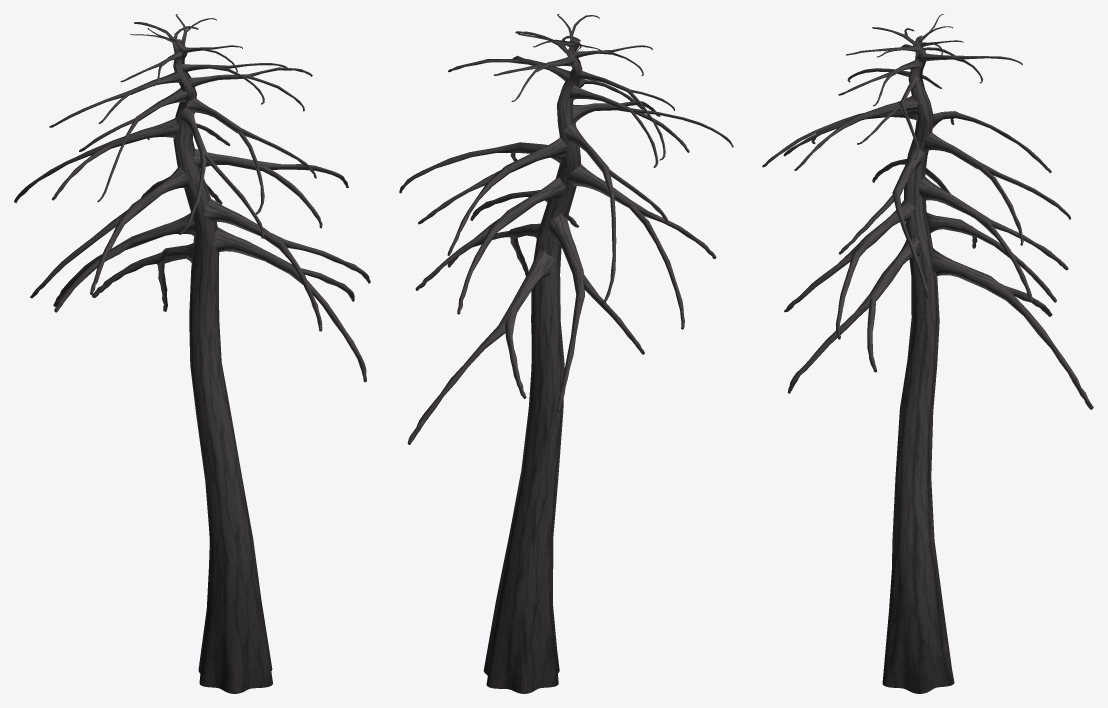
The model's file is dead-tree-1.glb.
The picture shows the model from 3 angles, left to right: view 1: azimuth 30°, elevation 25°; view 2: azimuth 150°, elevation 25°; view 3: azimuth 270°, elevation 25°; orthographic projection. The views are drawn at different scales.
Parts seen in each view (by area): view 1: DeadTree_3; view 2: DeadTree_3; view 3: DeadTree_3.
Part boxes in pixels (bbox=[...]): DeadTree_3: bbox=[14, 14, 370, 693]; DeadTree_3: bbox=[399, 14, 733, 693]; DeadTree_3: bbox=[762, 14, 1093, 693].
Bounding box in the file's own units: 6.39 × 13.28 × 6.43.
1 material, 1 textured.
